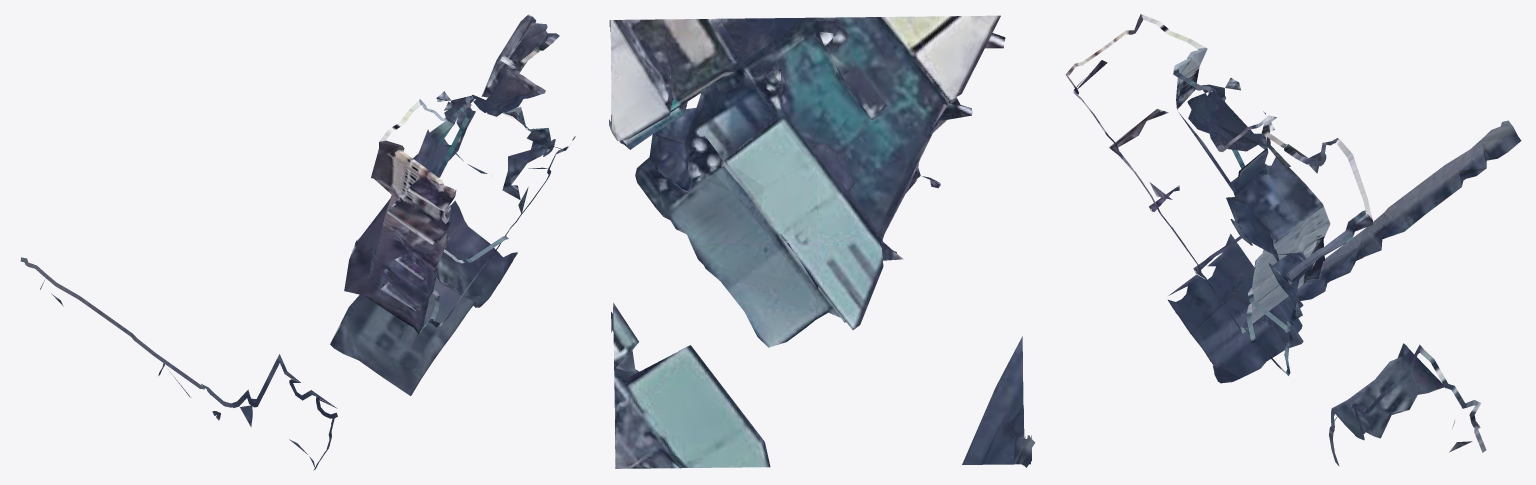
3 views of the same model, side by side, from view 1: azimuth 30°, elevation 25°; view 2: azimuth 150°, elevation 25°; view 3: azimuth 270°, elevation 25° (orthographic). The views are drawn at different scales.
Size of the model in its own units: 53.29 by 39.01 by 41.25.
Materials: 1 (1 with a texture image).
